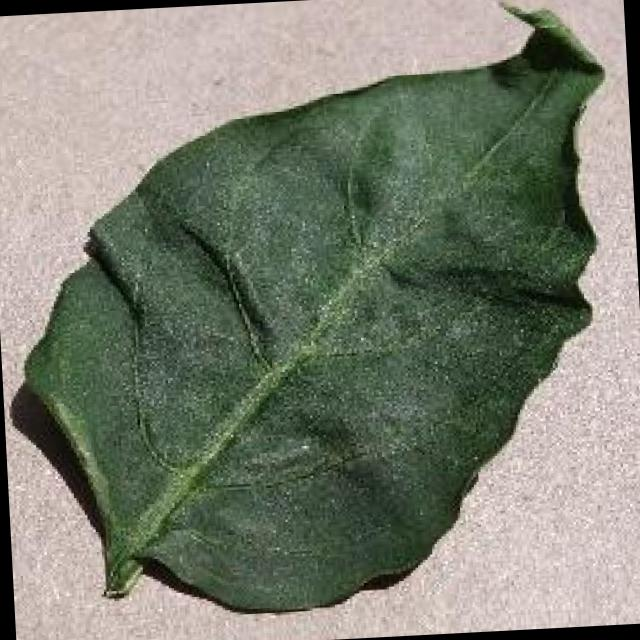Chilli_Healthy: (0, 0, 632, 625)
